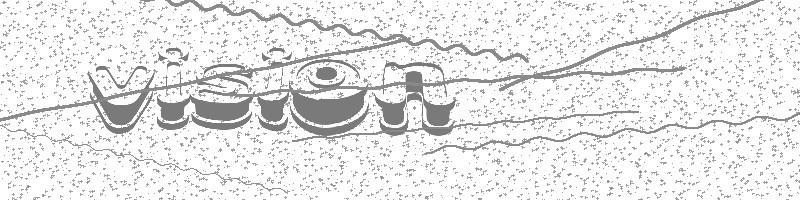i: (157, 48, 191, 130), (259, 48, 289, 130)
n: (376, 62, 457, 136)
o: (291, 61, 369, 135)
s: (192, 64, 253, 130)
v: (87, 66, 155, 133)
